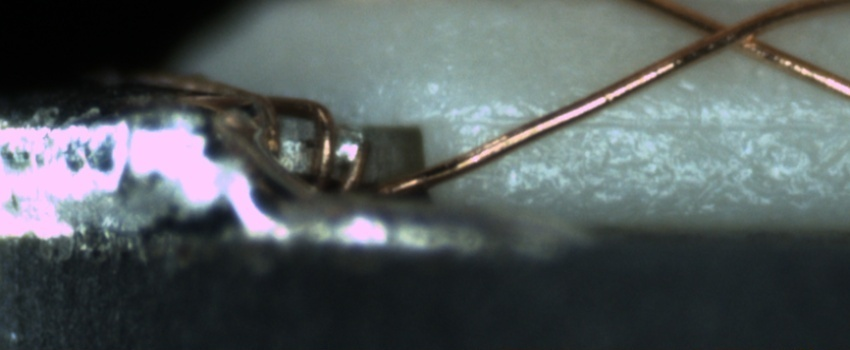CL: (684, 4, 780, 62)
DL: (471, 89, 849, 148)
TE: (228, 82, 376, 205)
